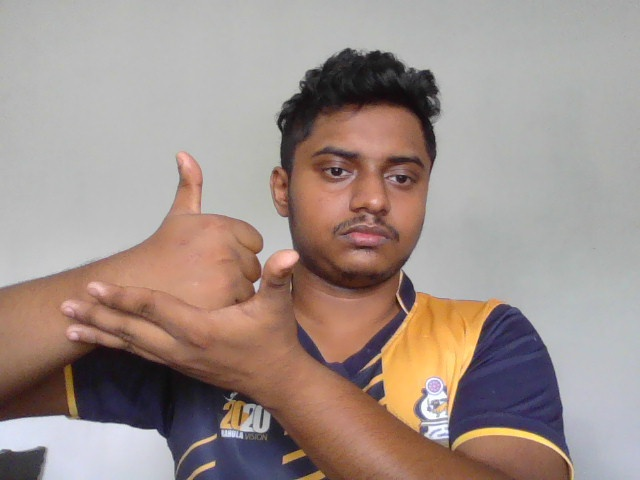Help: (58, 146, 302, 411)
